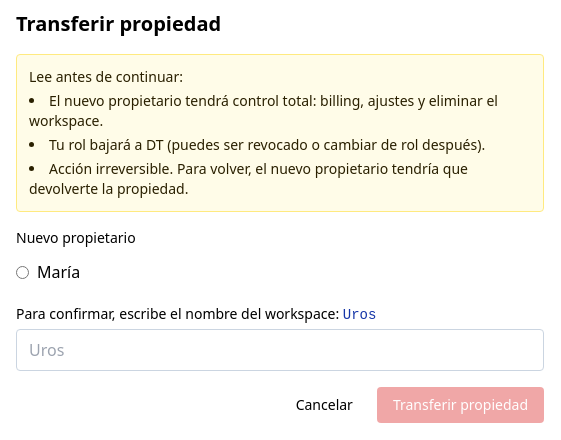
TransferOwnershipScreen › submit disabled until typing club name exactly
The width and height of the screenshot is (561, 440).
Click the radio button labelled "María" at {"x": 22, "y": 272}, box [16, 266, 29, 278]
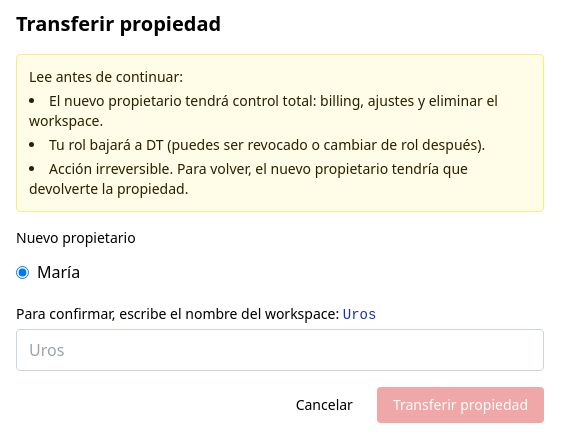
Type "Uros wrong" into the field with placeholder "Uros" at {"x": 280, "y": 350}, box [16, 329, 544, 371]
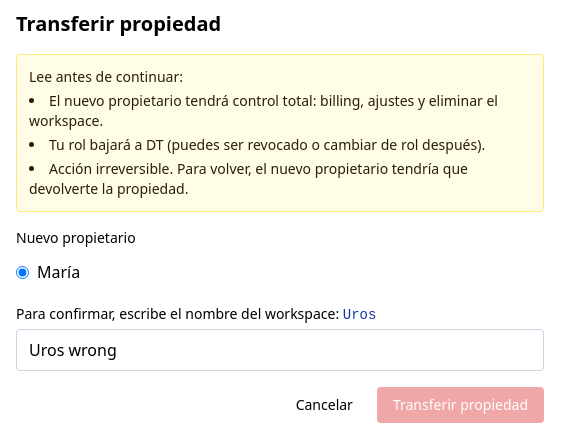
Expected: the button "Transferir propiedad" is disabled, [377, 387, 544, 423]
Replace the text in the field with placeholder "Uros" with "Uros" at {"x": 280, "y": 350}, box [16, 329, 544, 371]
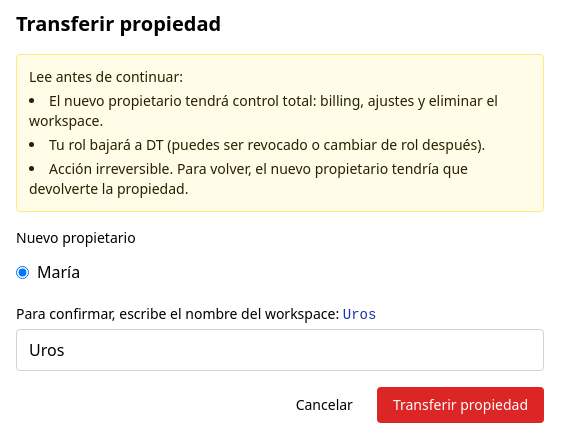
Expected: the button "Transferir propiedad" is enabled, [377, 387, 544, 423]
